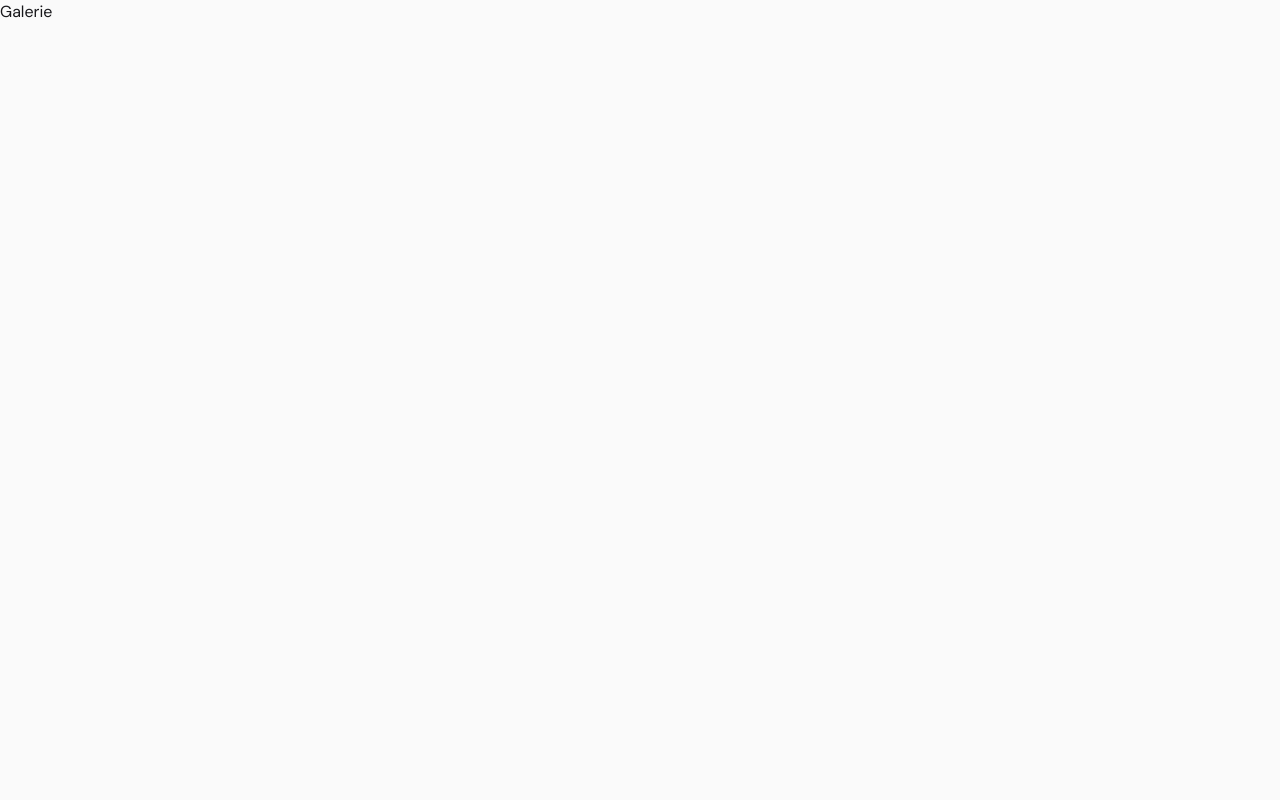
ProjektPalette › filtert beim Tippen, Enter auf einem Treffer navigiert
Press k
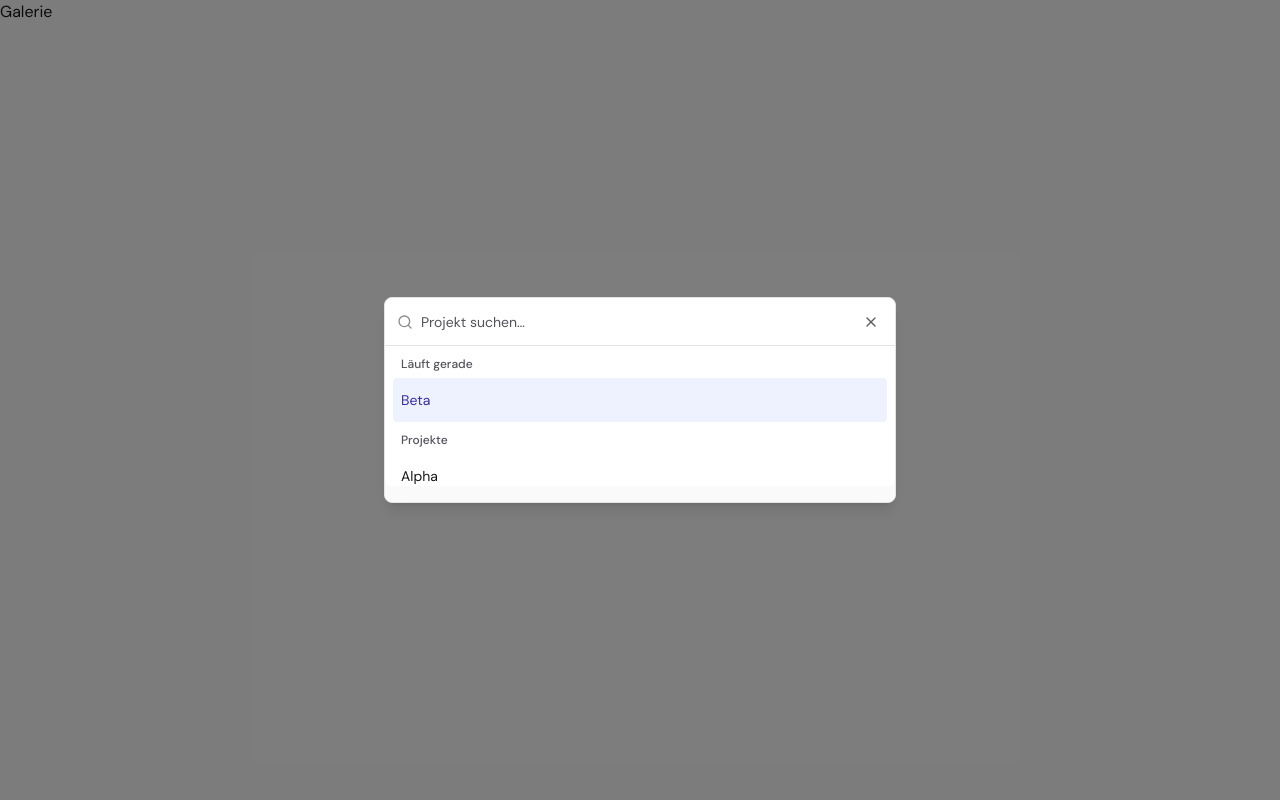
Expected: the option "Alpha" is shown, [401,467,438,485]
Type "Beta" into the dropdown with placeholder "Projekt suchen…" at (652,322), box [421,298,883,346]
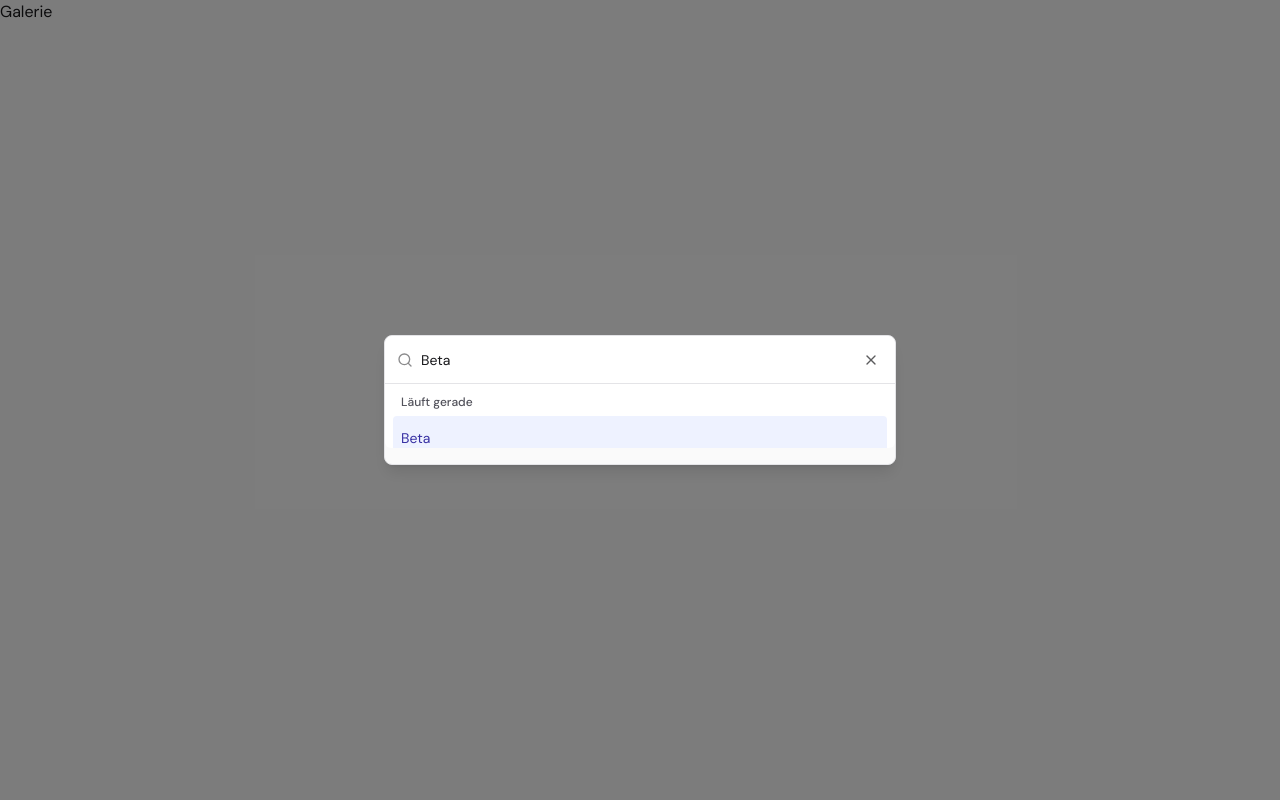
Expected: the option "Alpha" is gone
Press Enter in the dropdown with placeholder "Projekt suchen…", box [421,336,883,384]
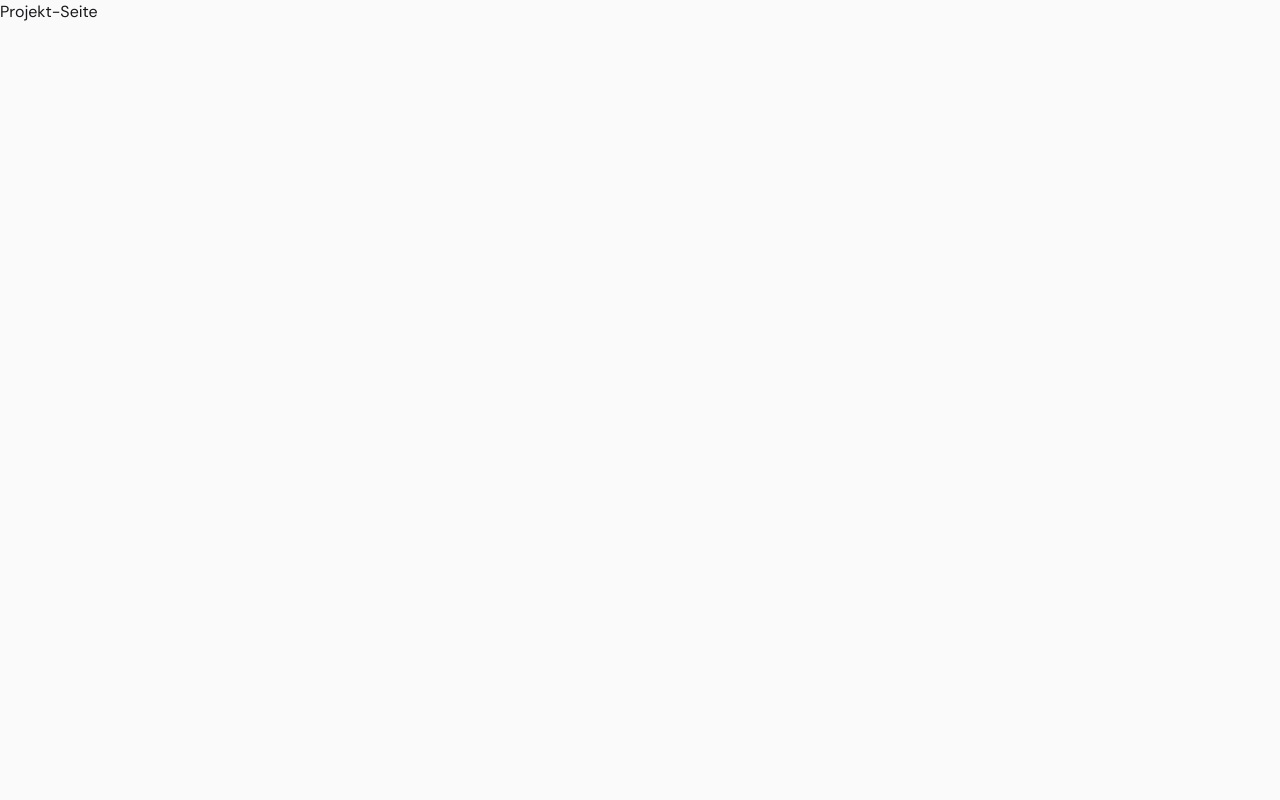
Expected: the text "Projekt-Seite" is shown, [0,1,98,22]
